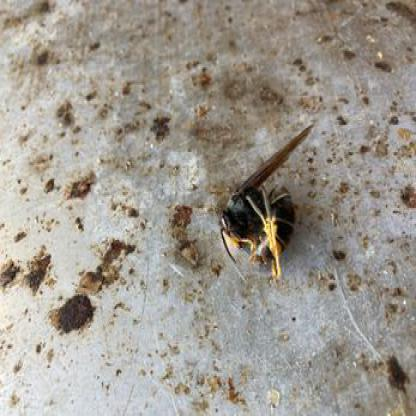Asian Hornet: (217, 123, 320, 283)
